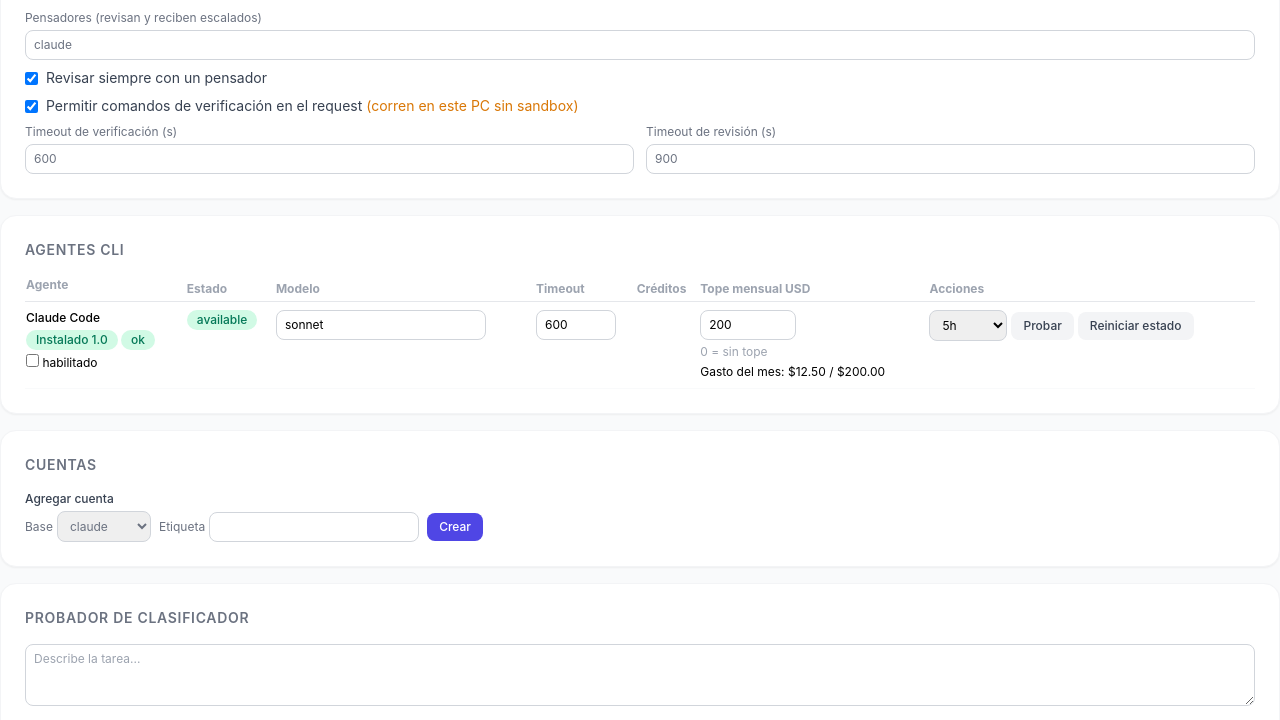
Test: Agents › Guardar envía cli_agents con enabled: true
(page scrolled)
Click the checkbox labelled "habilitado". click: x=32, y=360
box: [26,354,39,367]
(page scrolled)
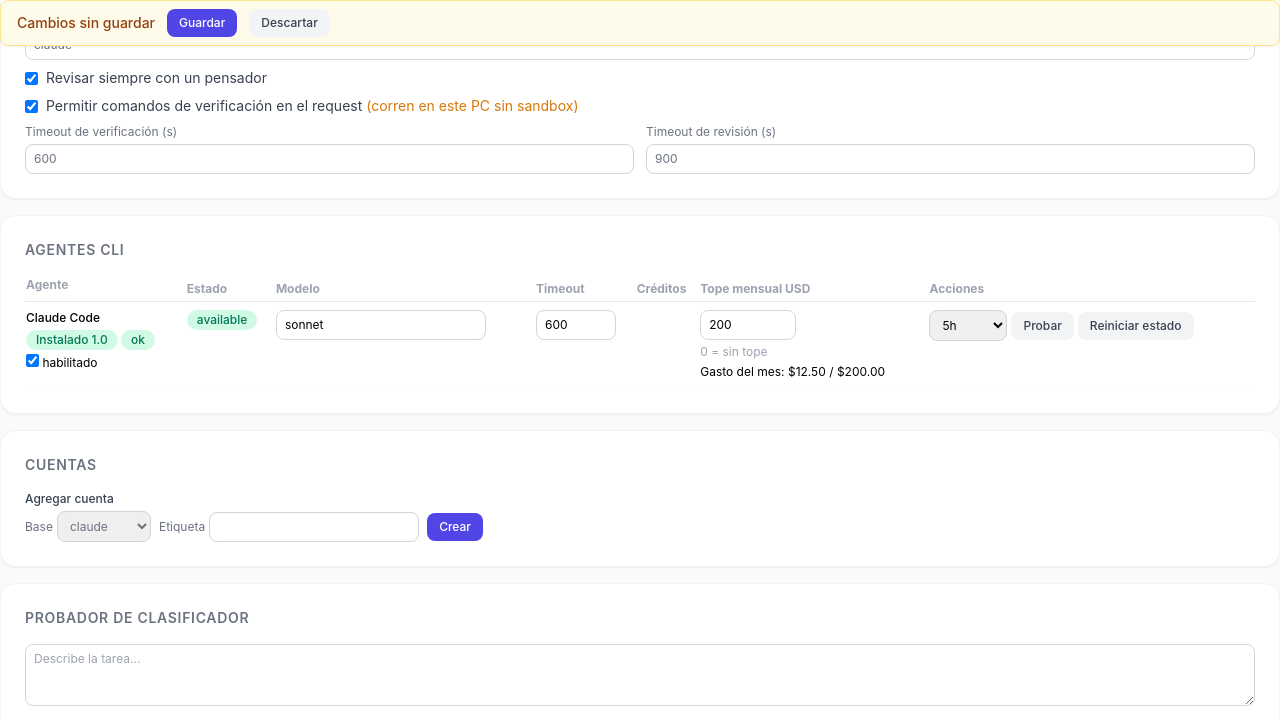
Click the button "Guardar". click: x=202, y=23
box: [167,9,237,37]
(page scrolled)
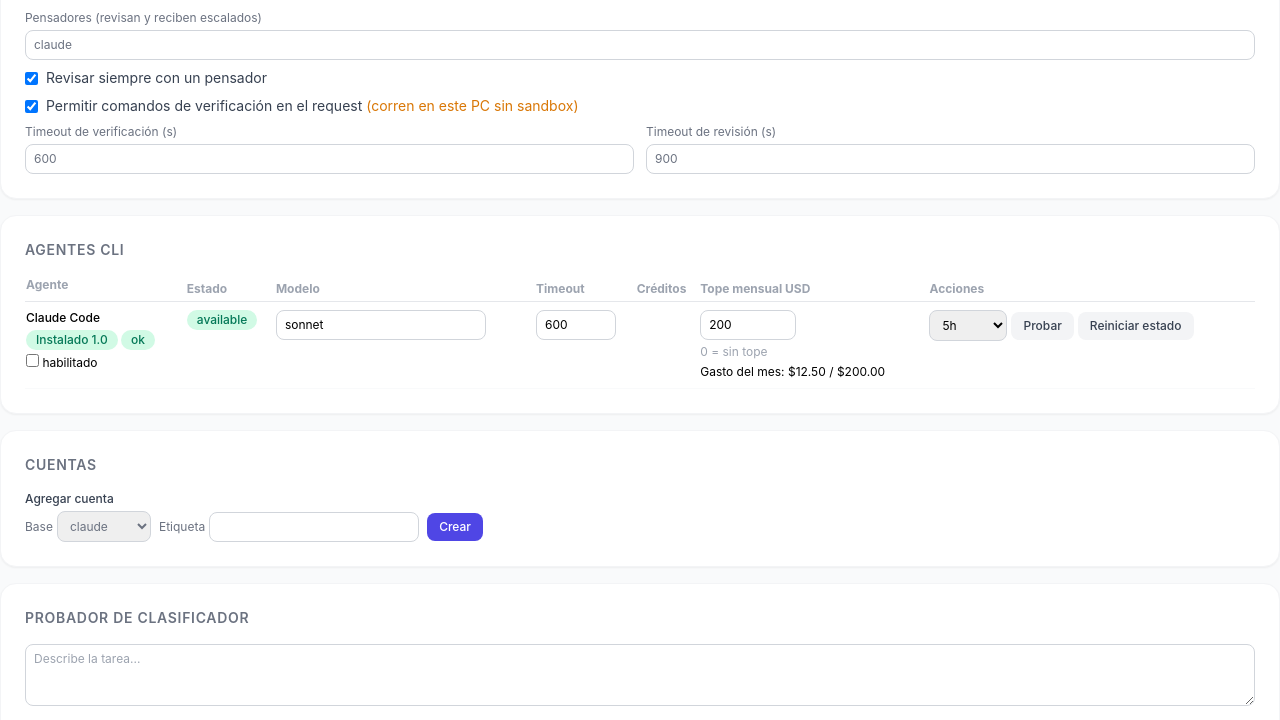
Check: the text "Cambios sin guardar" is gone
